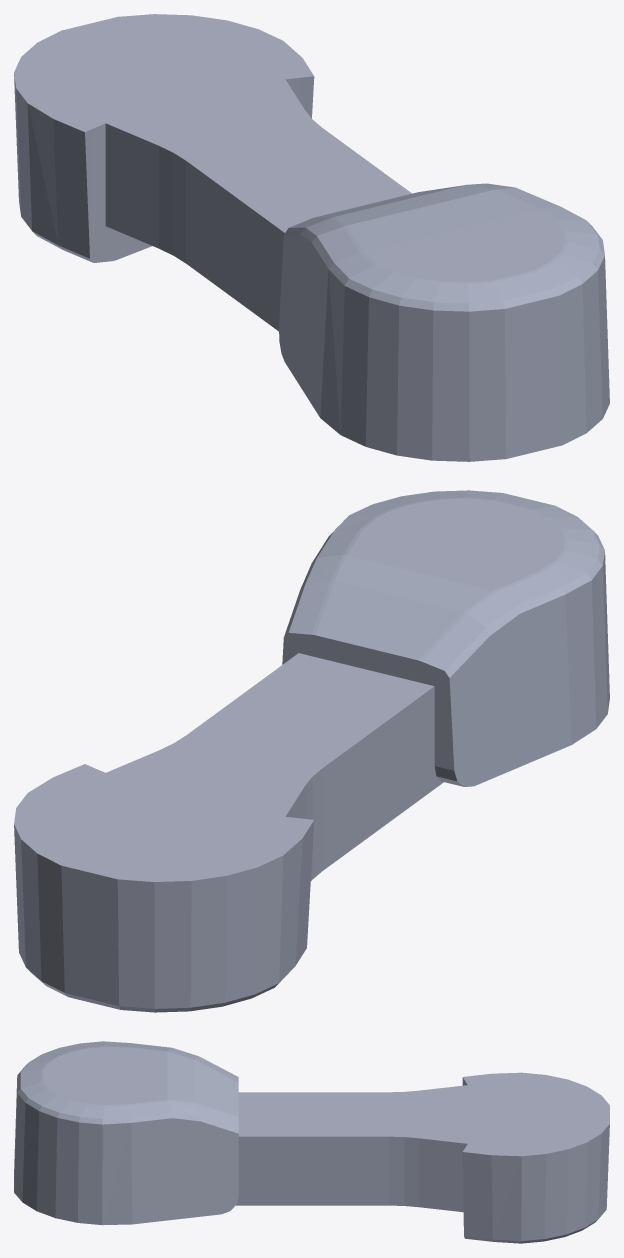
File: thigh.obj
3 renders of one model, top to bottom at view 1: azimuth 30°, elevation 25°; view 2: azimuth 150°, elevation 25°; view 3: azimuth 270°, elevation 25°, orthographic. The views are drawn at different scales.
Visible parts, largest first — view 1: Thigh_Mesh_008-mesh; view 2: Thigh_Mesh_008-mesh; view 3: Thigh_Mesh_008-mesh.
Boxes of the visible parts, x1,y1,x2,y2 form: Thigh_Mesh_008-mesh: (14, 14, 609, 461); Thigh_Mesh_008-mesh: (14, 490, 609, 1012); Thigh_Mesh_008-mesh: (14, 1041, 609, 1243).
Size of the model in its own units: 0.1391 by 0.1035 by 0.4193.
